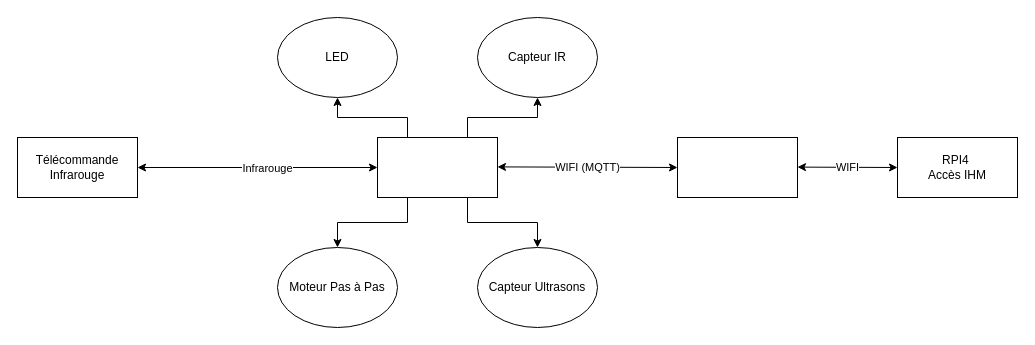
Image size: 1035x345. Some labels were removed from this diagram. Each missing label, with the box of its shape:
ESP32 CAM: (376, 136, 498, 198)
RPI3 MQTT +SQL + Mosquitto + Serveur de LOGs: (676, 136, 798, 198)
